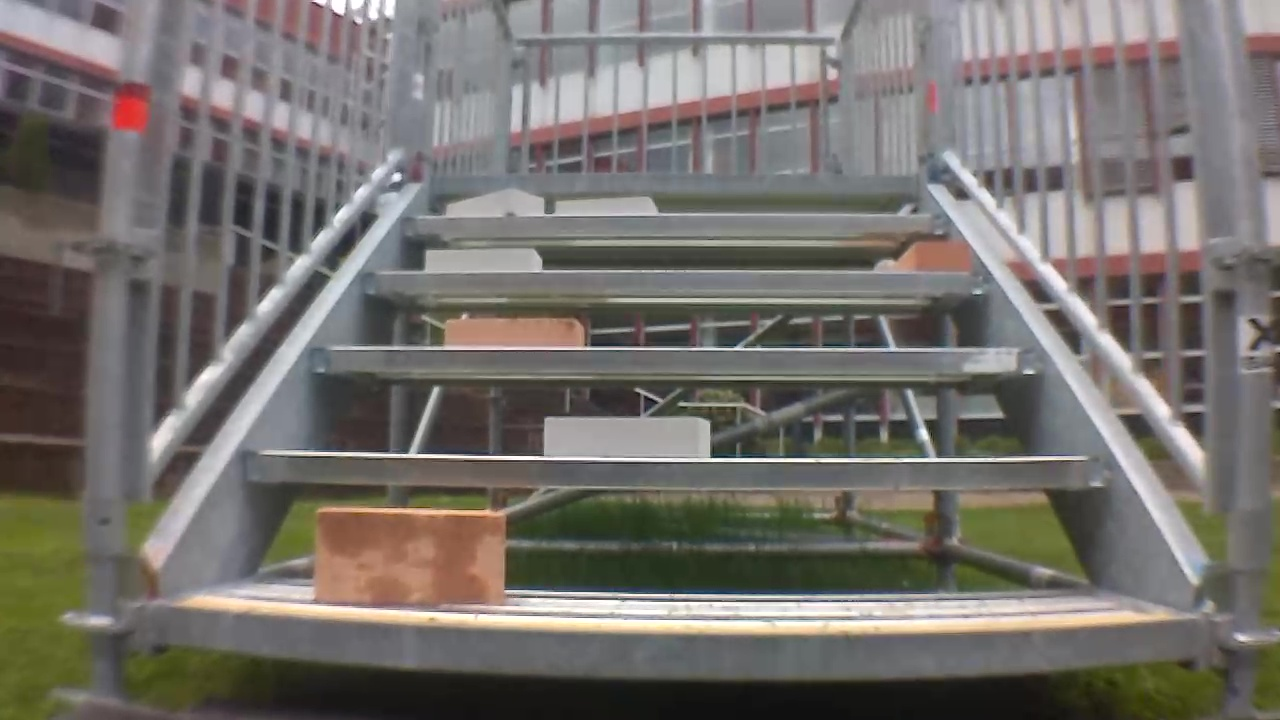brick: (316, 507, 505, 605), (545, 418, 709, 456), (446, 319, 585, 348), (426, 248, 542, 271), (447, 188, 542, 215), (898, 241, 969, 273), (556, 196, 658, 215)
edge: (158, 608, 1203, 673), (244, 451, 1106, 488), (311, 347, 1045, 375), (364, 272, 988, 293), (432, 174, 921, 195), (403, 215, 943, 234)
stairs: (68, 1, 1276, 715)
steps: (154, 166, 1207, 683)
